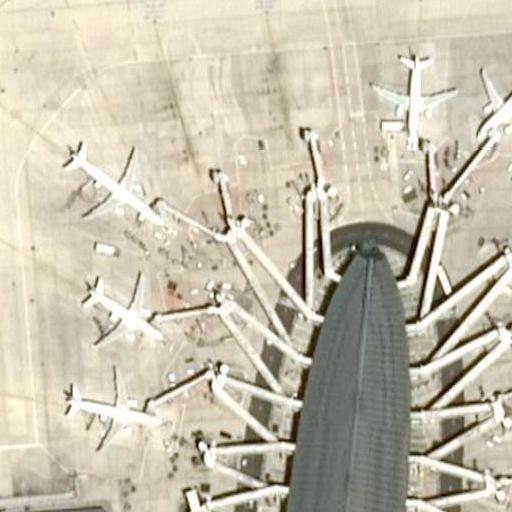Aircraft: (58, 133, 163, 230), (59, 364, 164, 456), (373, 45, 457, 141), (77, 267, 168, 350), (474, 60, 512, 140)
